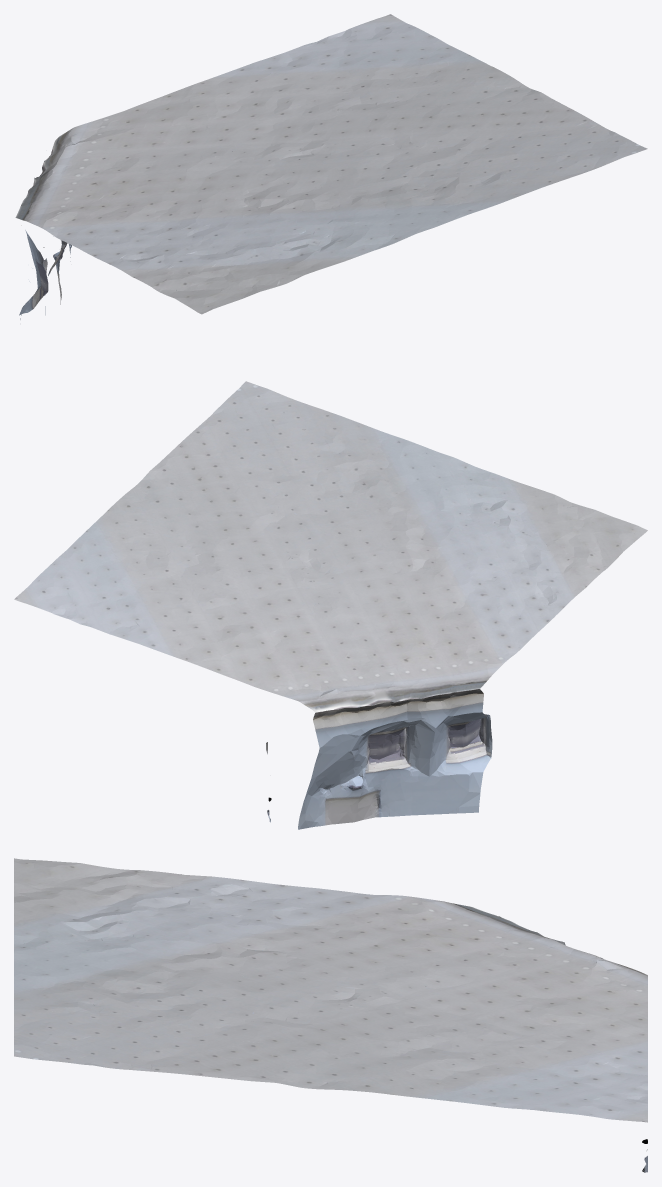
3 renders of one model, top to bottom at view 1: azimuth 30°, elevation 25°; view 2: azimuth 150°, elevation 25°; view 3: azimuth 270°, elevation 25°, orthographic. The views are drawn at different scales.
Bounding box in the file's own units: 8.36 × 4.16 × 8.36.
Materials: 3 (3 with a texture image).
